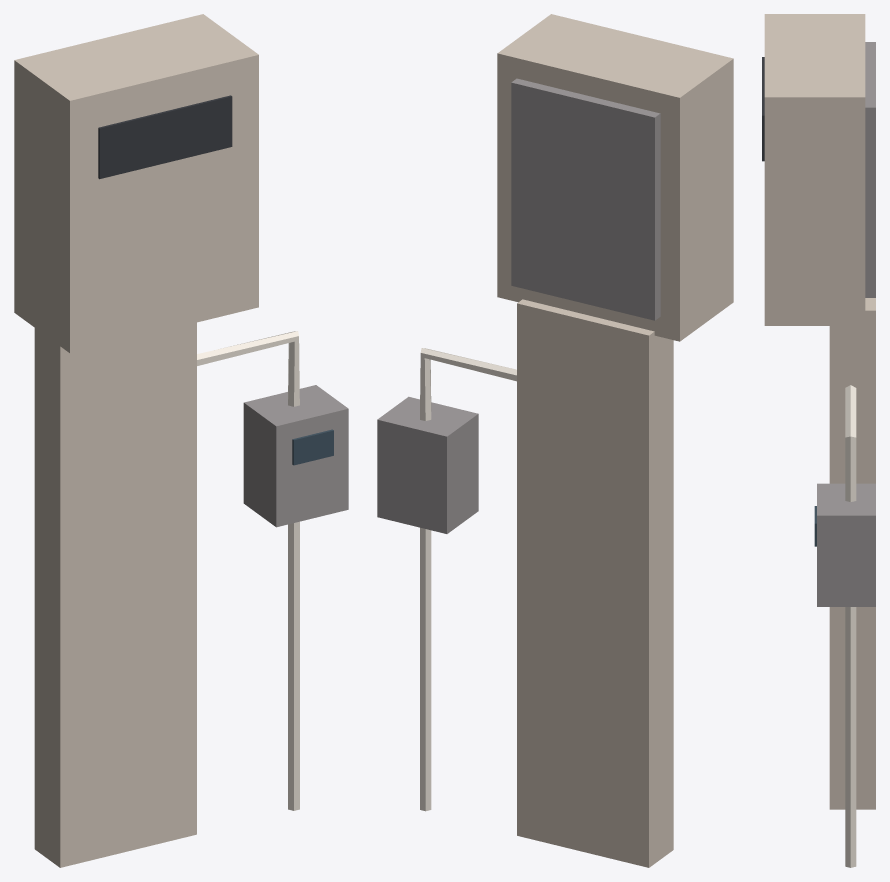
Rendered from SM_Fixture_NarrowWaterHeater_01.gltf.
The picture shows the model from 3 angles, left to right: view 1: azimuth 30°, elevation 25°; view 2: azimuth 150°, elevation 25°; view 3: azimuth 270°, elevation 25°; orthographic projection. The views are drawn at different scales.
Visible parts, largest first — view 1: SM_Fixture_NarrowWaterHeater_01; view 2: SM_Fixture_NarrowWaterHeater_01; view 3: SM_Fixture_NarrowWaterHeater_01.
Part boxes in pixels (box(x1,y1,x2,y2)): SM_Fixture_NarrowWaterHeater_01: box(14, 14, 348, 867); SM_Fixture_NarrowWaterHeater_01: box(377, 14, 733, 867); SM_Fixture_NarrowWaterHeater_01: box(762, 14, 875, 867).
Bounding box in the file's own units: 0.765 × 1.92 × 0.271.
1 material, 1 textured.
